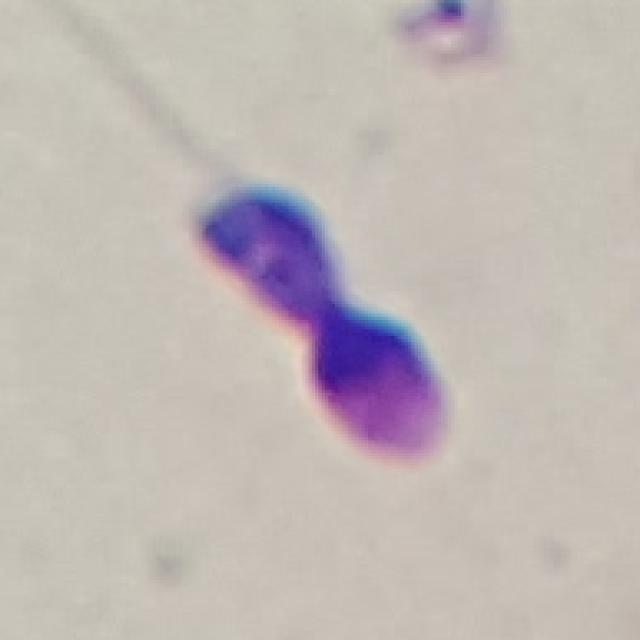abnormal sperm: (140, 96, 456, 466)
